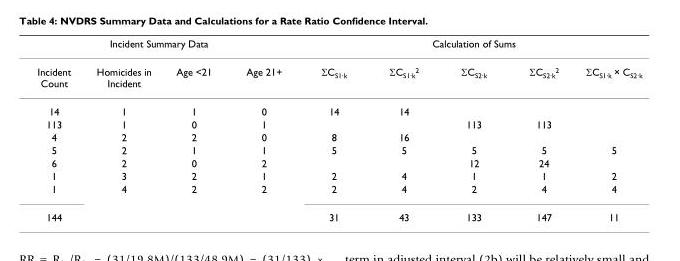table: (36, 37, 641, 222)
table column: (82, 37, 163, 222), (228, 37, 300, 222), (367, 37, 439, 222), (571, 37, 641, 222), (439, 37, 507, 222), (300, 37, 367, 222), (163, 37, 228, 222), (507, 37, 571, 222), (36, 37, 82, 222)
table column header: (36, 37, 641, 96)
table row: (36, 56, 641, 96), (36, 96, 641, 117), (36, 182, 641, 202), (36, 202, 641, 222), (36, 37, 641, 56), (36, 117, 641, 130), (36, 130, 641, 143), (36, 143, 641, 156), (36, 156, 641, 169), (36, 169, 641, 182)
table spanning cell: (300, 37, 641, 56), (36, 37, 300, 56)
